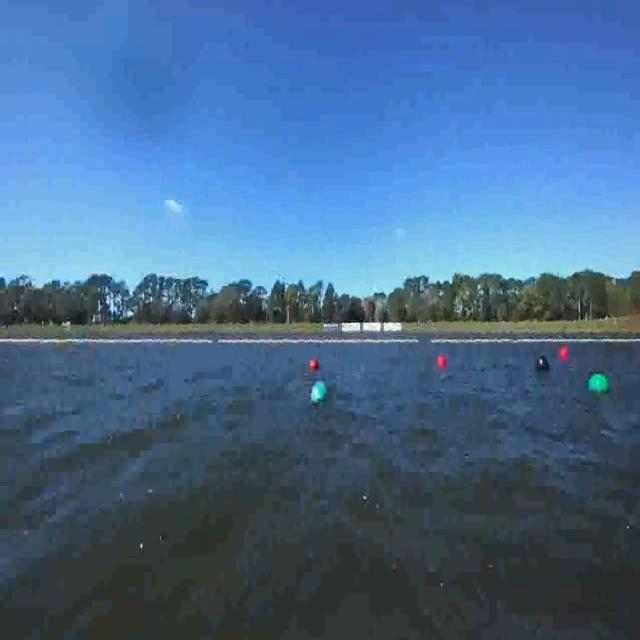black-buoy: (534, 354, 550, 374)
green-buoy: (586, 373, 608, 394), (313, 382, 327, 403)
red-buoy: (439, 356, 449, 370), (560, 347, 569, 362), (311, 359, 319, 370)
